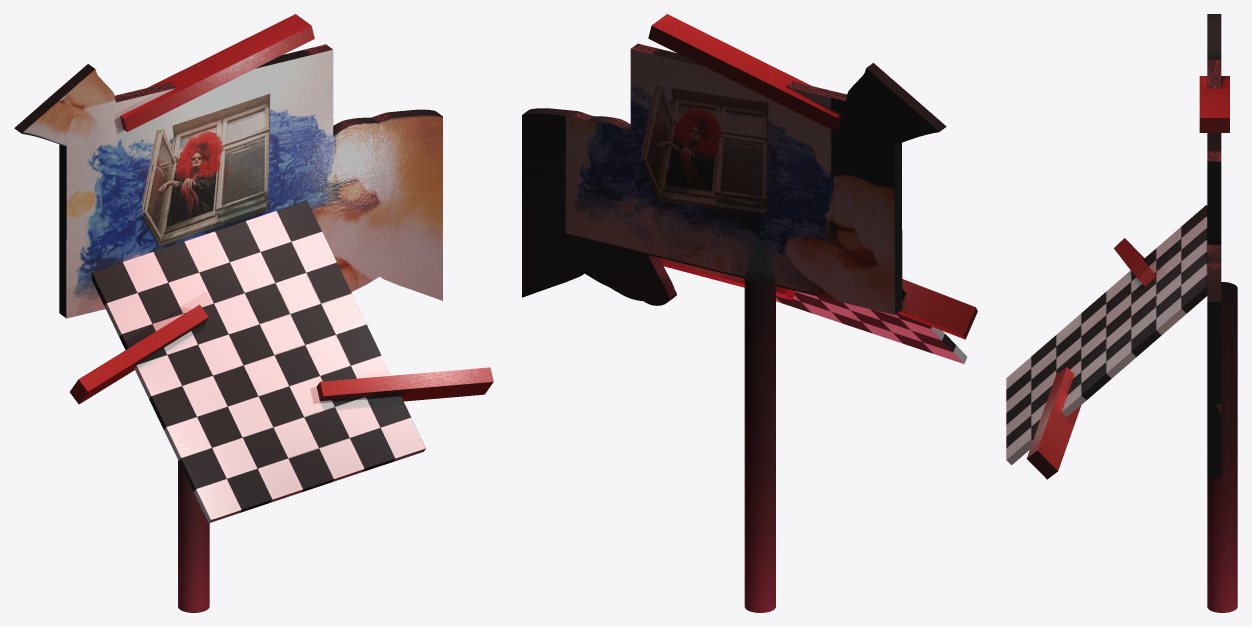
File: okna_02_be9ab990.glb
The picture shows the model from 3 angles, left to right: view 1: azimuth 30°, elevation 25°; view 2: azimuth 150°, elevation 25°; view 3: azimuth 270°, elevation 25°; orthographic projection. The views are drawn at different scales.
Visible parts, largest first — view 1: Mesh_0; view 2: Mesh_0; view 3: Mesh_0.
Boxes of the visible parts, x1=… form: Mesh_0: x1=14, y1=14, x2=493, y2=612; Mesh_0: x1=522, y1=14, x2=977, y2=612; Mesh_0: x1=1006, y1=14, x2=1237, y2=612.
Bounding box in the file's own units: 1.53 × 1.97 × 0.7613.
1 material, 1 textured.
